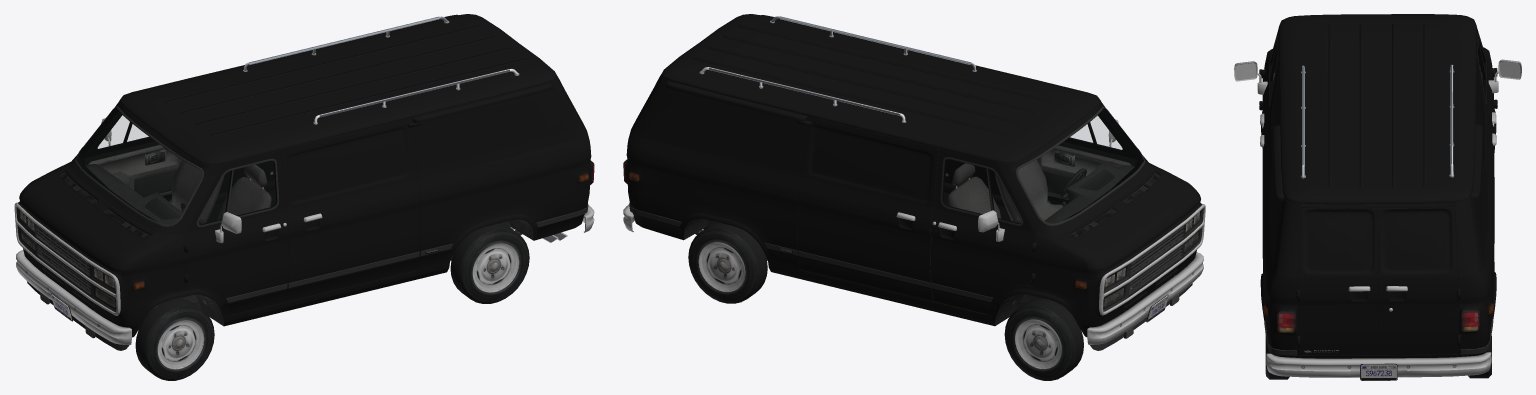
3 views of the same model, side by side, from view 1: azimuth 30°, elevation 25°; view 2: azimuth 150°, elevation 25°; view 3: azimuth 270°, elevation 25° (orthographic). The views are drawn at different scales.
Parts seen in each view (by area): view 1: Body_Body_0, Door_RL_Body_0, Door_FL_Body_0, Hood_Body_0, Wheel_FL_RIMSTOCK_01_0, Wheel_RL_RIMSTOCK_01_0, Doorcard_FR_Material #31_0, Grill_UCB_BOTTOM_0, Seats_Material #31_0, Bumper_front_UCB_BOTTOM_0, Bottom_UCB_BOTTOM_0, Dashboard_Material #31_0 (+7 smaller); view 2: Body_Body_0, Door_RR_Body_0, Door_FR_Body_0, Hood_Body_0, Wheel_FR_RIMSTOCK_01_0, Wheel_RR_RIMSTOCK_01_0, Grill_UCB_BOTTOM_0, Doorcard_FL_Material #31_0, Seats_Material #31_0, Bumper_front_UCB_BOTTOM_0, Dashboard_Material #31_0, Bottom_UCB_BOTTOM_0 (+7 smaller); view 3: Body_Body_0, Trunkdoor_Left_Body_0, Trunkdoor_Right_Body_0, Bumper_rear_UCB_BOTTOM_0, Detaling_Body_0, Door_RR_Body_0, Door_RL_Body_0, Roof_rails_UCB_BOTTOM_0, Numberplate_rear_Numberplates_0, Sidemirror_Left_UCB_BOTTOM_0, Sidemirror_Right_UCB_BOTTOM_0, Door_FR_Body_0 (+8 smaller).
Boxes of the visible parts, box(x1,y1,x2,y2) form: Body_Body_0: box(18, 14, 592, 337); Door_RL_Body_0: box(281, 117, 422, 301); Door_FL_Body_0: box(184, 150, 288, 314); Hood_Body_0: box(20, 174, 144, 271); Wheel_FL_RIMSTOCK_01_0: box(135, 299, 214, 380); Wheel_RL_RIMSTOCK_01_0: box(450, 223, 529, 303); Doorcard_FR_Material #31_0: box(82, 111, 181, 201); Grill_UCB_BOTTOM_0: box(14, 202, 120, 315); Seats_Material #31_0: box(169, 160, 271, 224); Bumper_front_UCB_BOTTOM_0: box(16, 250, 131, 344); Bottom_UCB_BOTTOM_0: box(42, 172, 588, 325); Dashboard_Material #31_0: box(85, 164, 182, 224); Body_Body_0: box(624, 14, 1202, 337); Door_RR_Body_0: box(796, 116, 938, 301); Door_FR_Body_0: box(930, 148, 1035, 314); Hood_Body_0: box(1075, 175, 1199, 271); Wheel_FR_RIMSTOCK_01_0: box(1004, 298, 1083, 380); Wheel_RR_RIMSTOCK_01_0: box(688, 222, 767, 303); Grill_UCB_BOTTOM_0: box(1099, 204, 1205, 315); Doorcard_FL_Material #31_0: box(1037, 112, 1137, 204); Seats_Material #31_0: box(947, 159, 1063, 222); Bumper_front_UCB_BOTTOM_0: box(1087, 252, 1203, 344); Dashboard_Material #31_0: box(1045, 163, 1134, 223); Bottom_UCB_BOTTOM_0: box(629, 148, 1177, 325); Body_Body_0: box(1260, 14, 1496, 358); Trunkdoor_Left_Body_0: box(1298, 208, 1378, 355); Trunkdoor_Right_Body_0: box(1377, 207, 1458, 354); Bumper_rear_UCB_BOTTOM_0: box(1266, 352, 1491, 380); Detaling_Body_0: box(1259, 68, 1497, 347); Door_RR_Body_0: box(1475, 55, 1494, 243); Door_RL_Body_0: box(1262, 57, 1280, 203); Roof_rails_UCB_BOTTOM_0: box(1301, 64, 1454, 178); Numberplate_rear_Numberplates_0: box(1360, 364, 1397, 380); Sidemirror_Left_UCB_BOTTOM_0: box(1234, 61, 1267, 94); Sidemirror_Right_UCB_BOTTOM_0: box(1488, 59, 1521, 93); Door_FR_Body_0: box(1476, 26, 1494, 150).
Size of the model in its own units: 4.9 by 2.06 by 2.35.
8 materials, 7 textured.
